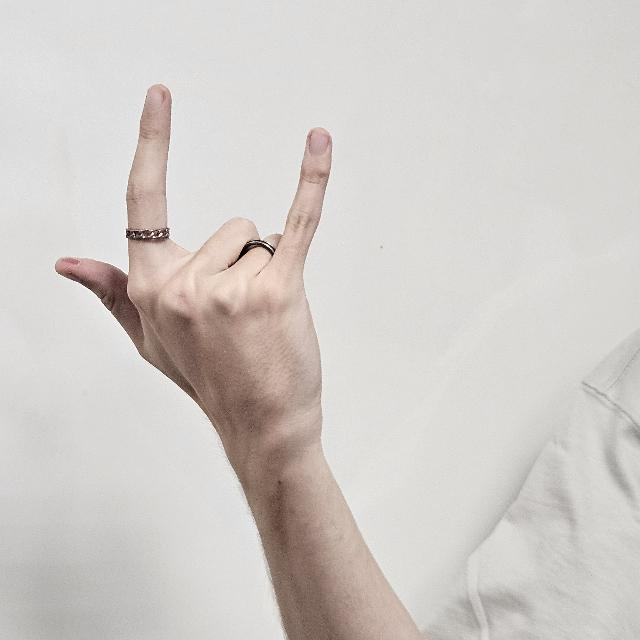Cima: (50, 84, 360, 476)
